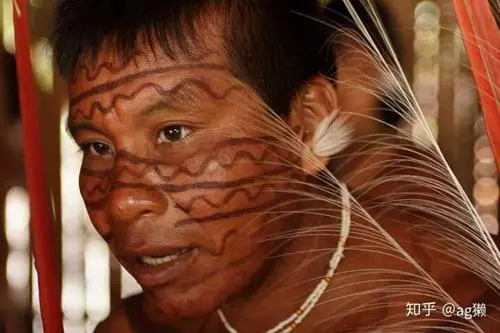withoutmask: (36, 14, 340, 315)
